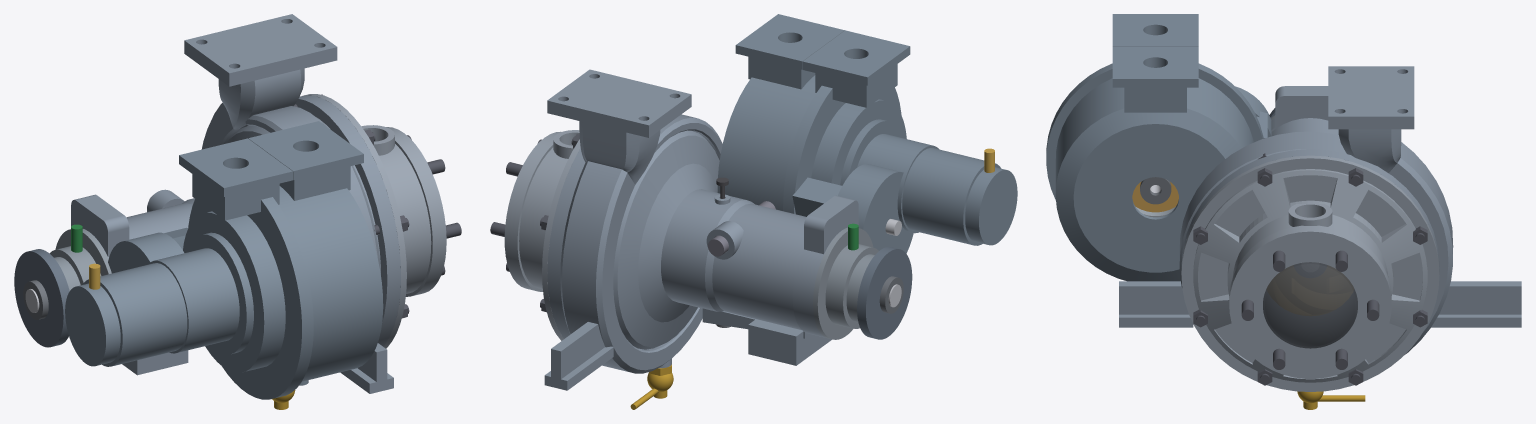
File: NCPK_nasos.glb
3 renders of one model, left to right at view 1: azimuth 30°, elevation 25°; view 2: azimuth 150°, elevation 25°; view 3: azimuth 270°, elevation 25°, orthographic. The views are drawn at different scales.
Parts seen in each view (by area): view 1: ВД 14 Корпус ступени (с приливами входа и выхода), 20 Корпус насоса (улитка, напорный патрубок, приливы), ВД 5 Корпус опор и шестерни, 12 Крышка насоса, ВД 30 Крышка (камера подвода охлаждающей воды), 1 Полумуфта, 25 Корпус задней опоры, Гайка конца вала, Шпильки фланца всасывания M16 (6 шт.); view 2: 20 Корпус насоса (улитка, напорный патрубок, приливы), ВД 14 Корпус ступени (с приливами входа и выхода), ВД 5 Корпус опор и шестерни, 12 Крышка насоса, 25 Корпус задней опоры, 1 Полумуфта, ВД 30 Крышка (камера подвода охлаждающей воды), ВД Кронштейн крепления к корпусу НД (условно), 16 Кран сливной, Гайка конца вала; view 3: 12 Крышка насоса, ВД 14 Корпус ступени (с приливами входа и выхода), 20 Корпус насоса (улитка, напорный патрубок, приливы), 13 Сетка, Болты крышки M12 (8 шт.), Шпильки фланца всасывания M16 (6 шт.), ВД Гайка конца вала, 16 Кран сливной, ВД 16 Колесо рабочее 2-й ступени (встречное).
Boxes of the visible parts, <box> form: ВД 14 Корпус ступени (с приливами входа и выхода): <box>179,121,383,399</box>; 20 Корпус насоса (улитка, напорный патрубок, приливы): <box>71,14,400,393</box>; ВД 5 Корпус опор и шестерни: <box>82,232,253,366</box>; 12 Крышка насоса: <box>304,94,446,348</box>; ВД 30 Крышка (камера подвода охлаждающей воды): <box>65,283,120,366</box>; 1 Полумуфта: <box>14,249,69,347</box>; 25 Корпус задней опоры: <box>49,229,111,290</box>; Гайка конца вала: <box>23,280,48,319</box>; Шпильки фланца всасывания M16 (6 шт.): <box>407,135,461,275</box>; 20 Корпус насоса (улитка, напорный патрубок, приливы): <box>544,69,858,390</box>; ВД 14 Корпус ступени (с приливами входа и выхода): <box>717,14,910,214</box>; ВД 5 Корпус опор и шестерни: <box>838,119,1000,253</box>; 12 Крышка насоса: <box>504,130,580,340</box>; 25 Корпус задней опоры: <box>813,227,878,339</box>; 1 Полумуфта: <box>857,247,912,339</box>; ВД 30 Крышка (камера подвода охлаждающей воды): <box>965,167,1017,245</box>; ВД Кронштейн крепления к корпусу НД (условно): <box>792,177,841,216</box>; 16 Кран сливной: <box>630,364,673,409</box>; Гайка конца вала: <box>879,276,903,313</box>; 12 Крышка насоса: <box>1181,155,1439,391</box>; ВД 14 Корпус ступени (с приливами входа и выхода): <box>1046,14,1263,281</box>; 20 Корпус насоса (улитка, напорный патрубок, приливы): <box>1119,66,1521,354</box>; 13 Сетка: <box>1263,262,1357,348</box>; Болты крышки M12 (8 шт.): <box>1193,153,1427,385</box>; Шпильки фланца всасывания M16 (6 шт.): <box>1241,250,1379,369</box>; ВД Гайка конца вала: <box>1140,177,1171,204</box>; 16 Кран сливной: <box>1297,391,1365,409</box>; ВД 16 Колесо рабочее 2-й ступени (встречное): <box>1132,181,1178,212</box>.
Bounding box in the file's own units: 0.5926 × 0.453 × 0.6078.
